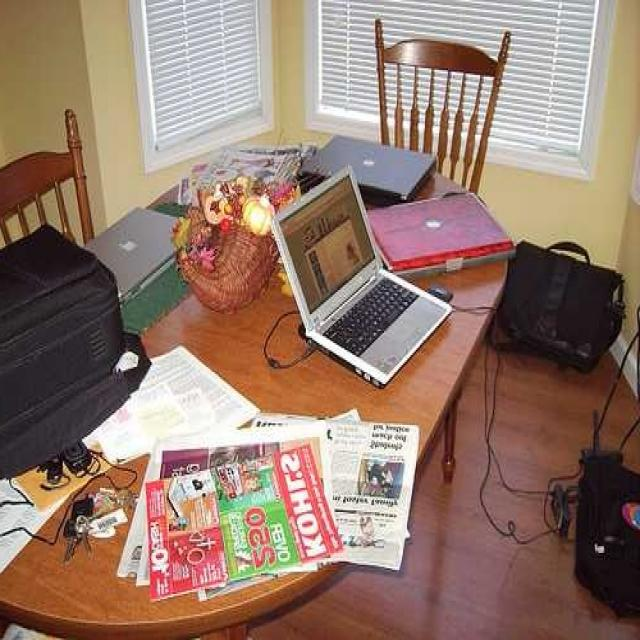laptop: (263, 173, 453, 387)
